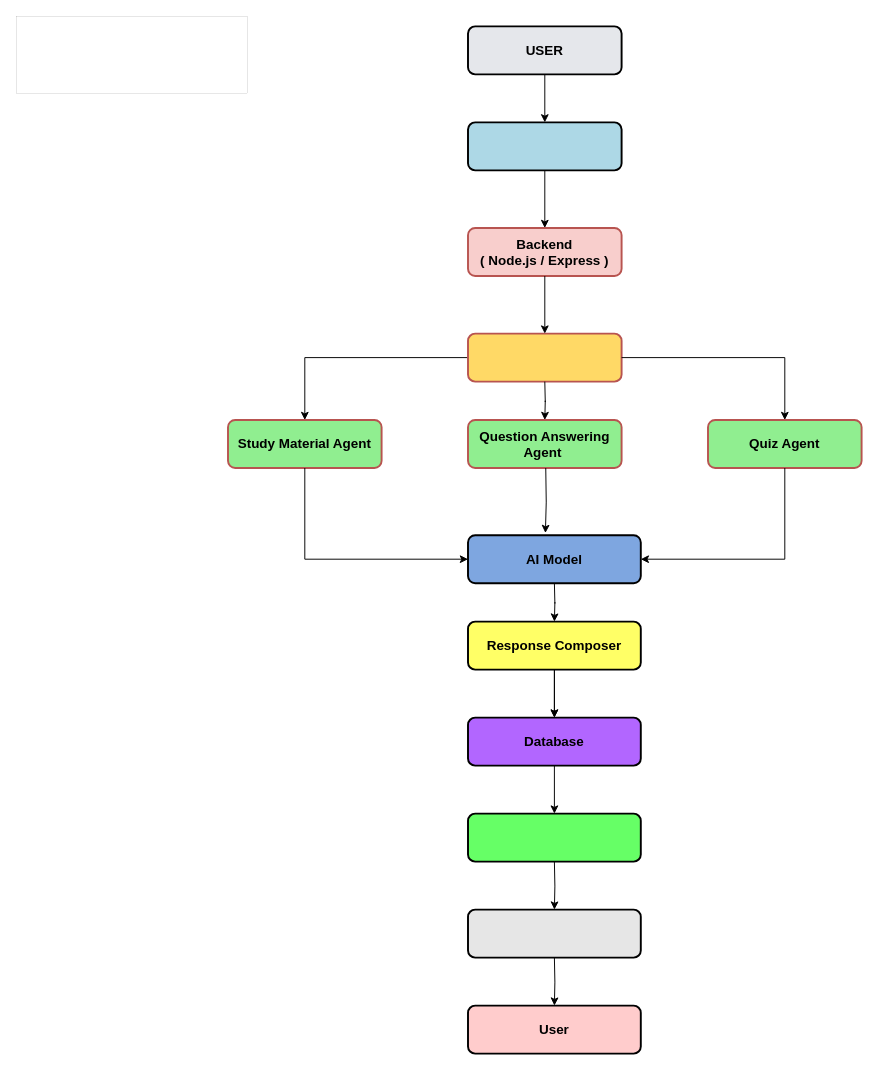
Image size: 878x1070. Some labels were removed from this diagram. The centre of each missing label's shape, as x and y in pixels:
"Agent Router" goes at [544,357].
"Architecture of Multi - Agent AI Learning System" goes at [131,54].
"Backend" goes at [554,837].
"Frontend" goes at [554,933].
"Frontend ( React / HTML / CSS )" goes at [544,146].
